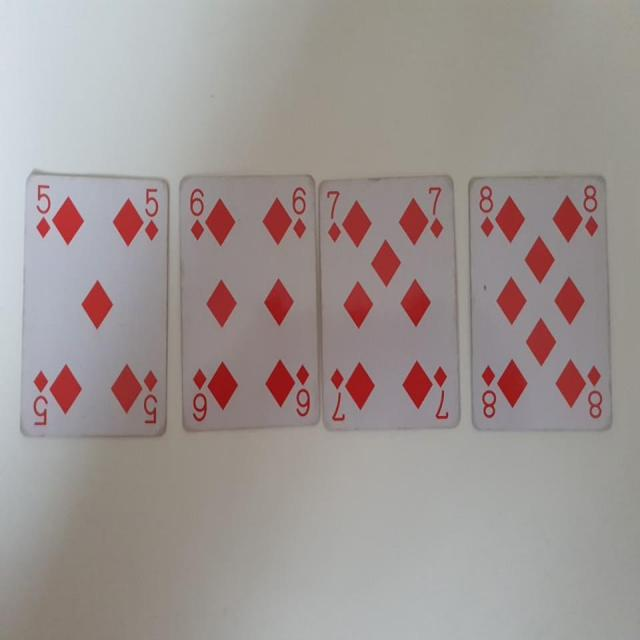5 Diamonds: (15, 166, 170, 441)
6 Diamonds: (177, 173, 320, 434)
7 Diamonds: (318, 172, 461, 430)
8 Diamonds: (468, 174, 613, 433)
